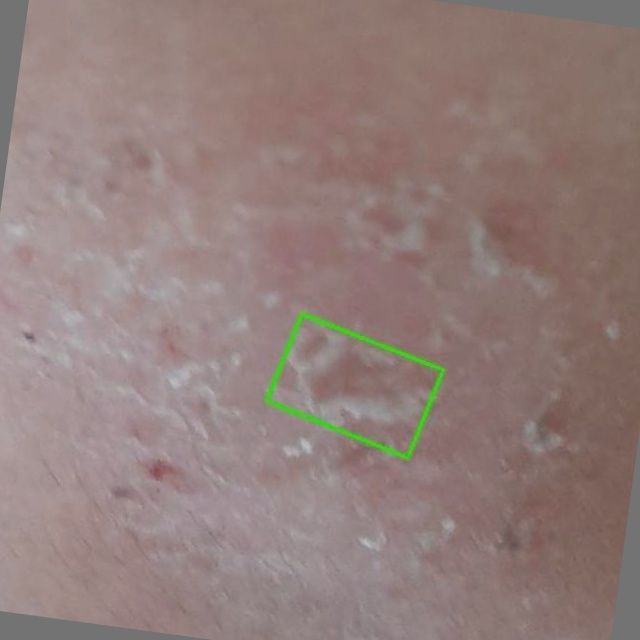Atopic Dermatitis: (267, 314, 443, 458)
